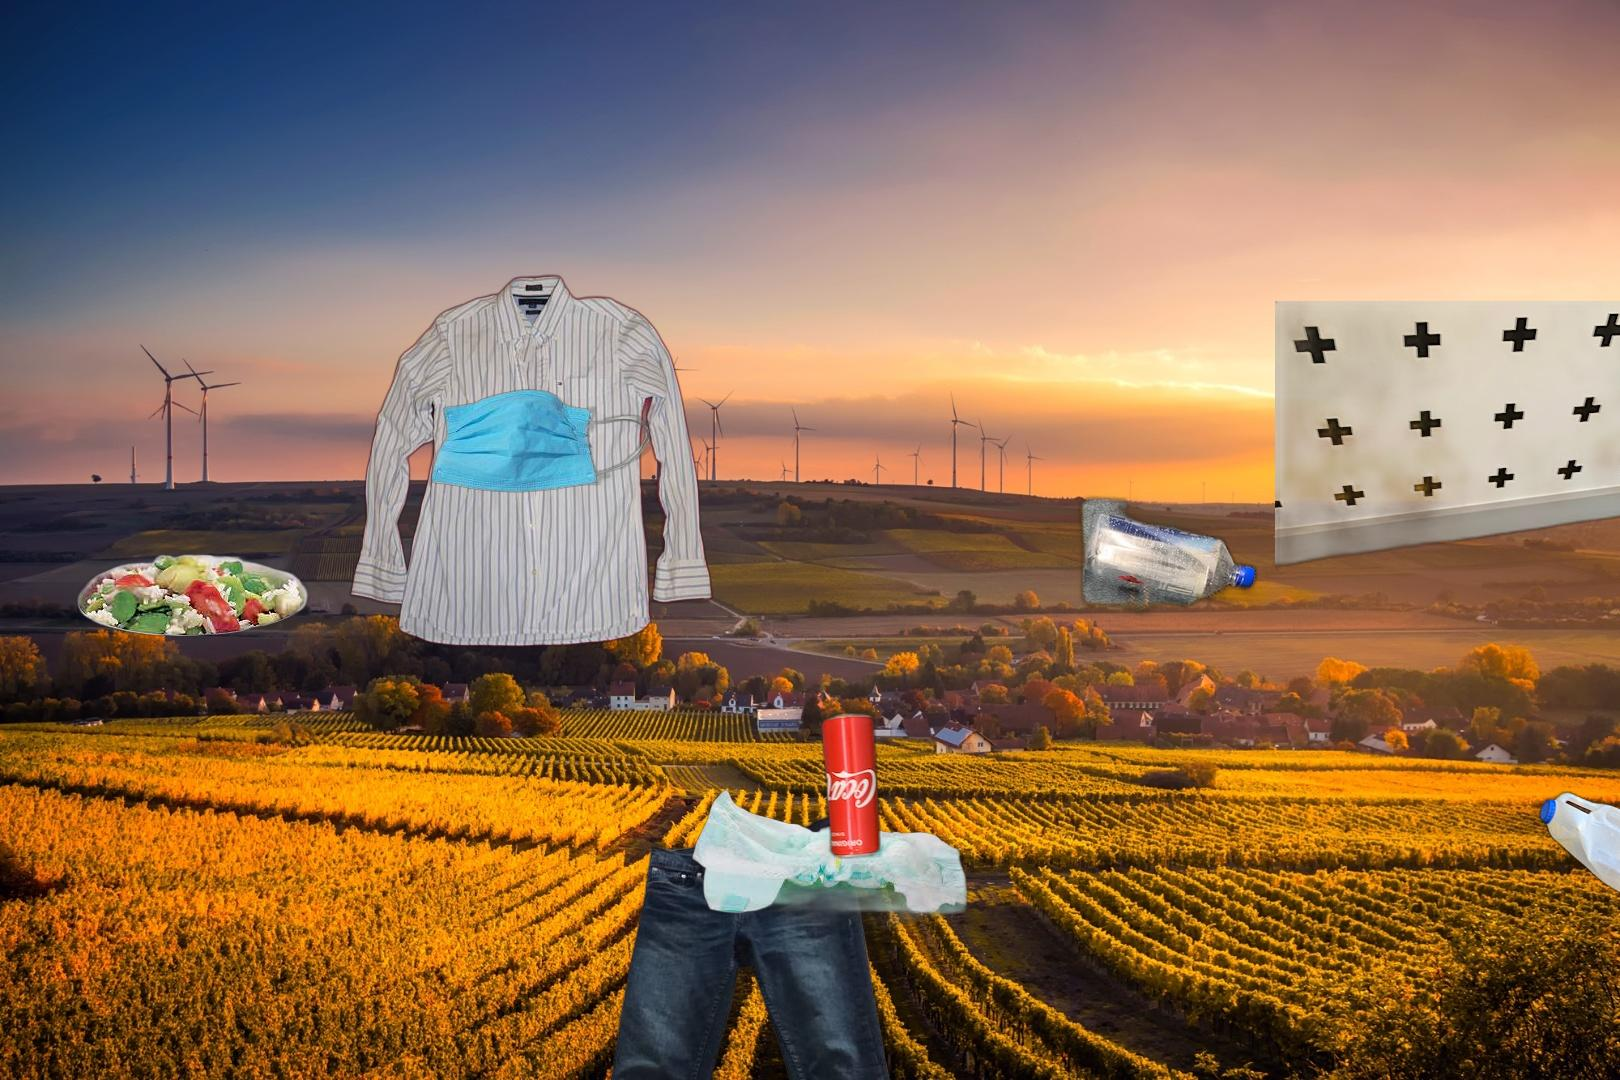biological: (74, 548, 312, 638)
clothes: (346, 271, 715, 651), (573, 808, 932, 1080)
metal-cans: (816, 708, 884, 863)
plastic-bottles: (1275, 301, 1620, 910), (1073, 492, 1262, 627)
trash: (689, 787, 984, 929), (388, 387, 653, 495)
